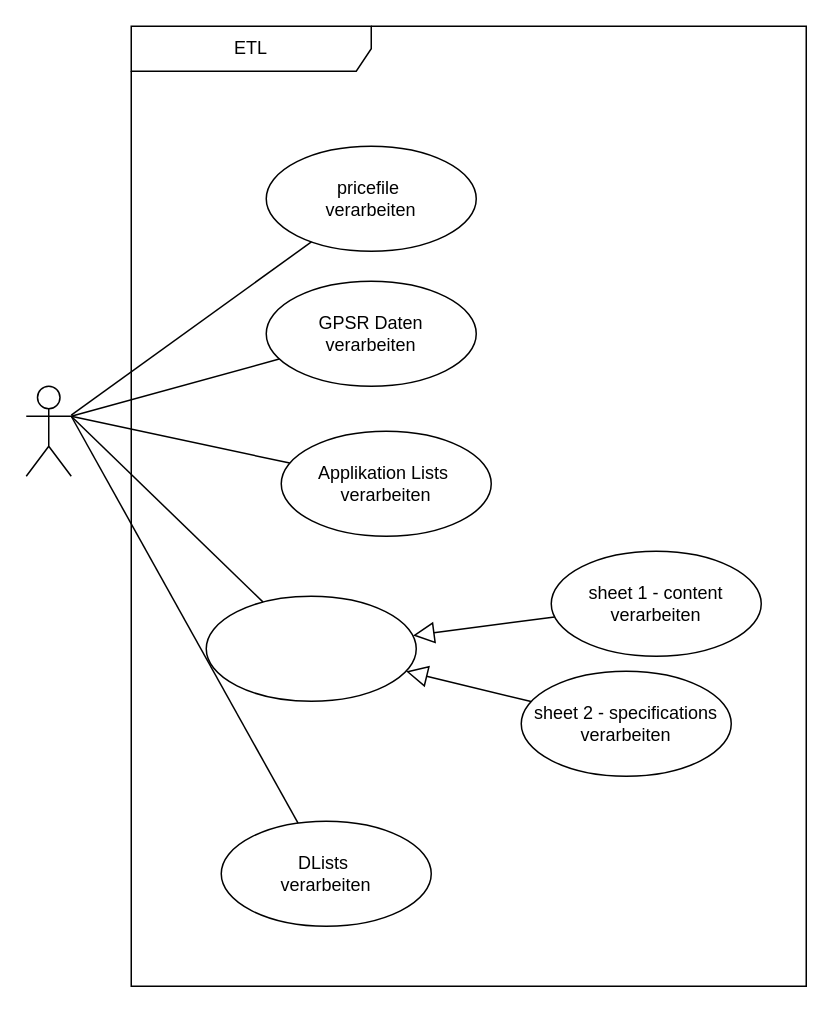
Some shapes in this 833 by 1013 pixel diagram are drawn without their labels. The shapes that lost their labels are listed below. From the top down, each one's centre as x and y in pixels, then its label:
At point (48, 430): "Actor".
At point (310, 648): "ContentLists verarbeiten".
